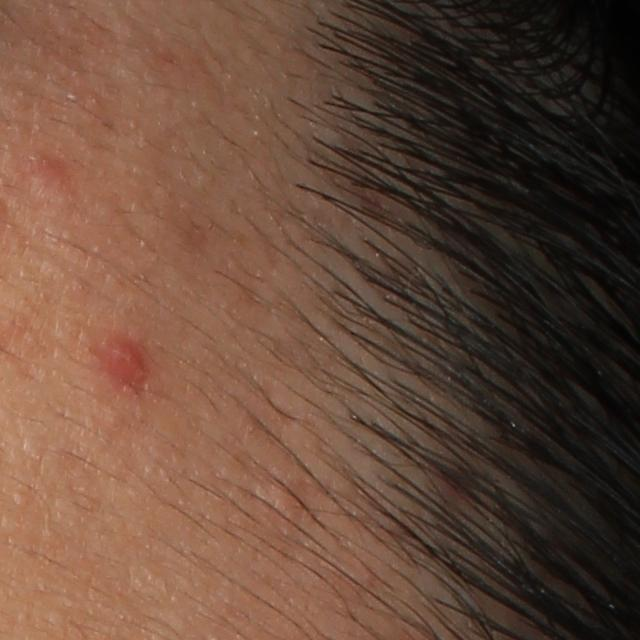papule: (104, 331, 149, 381), (25, 159, 66, 202)
